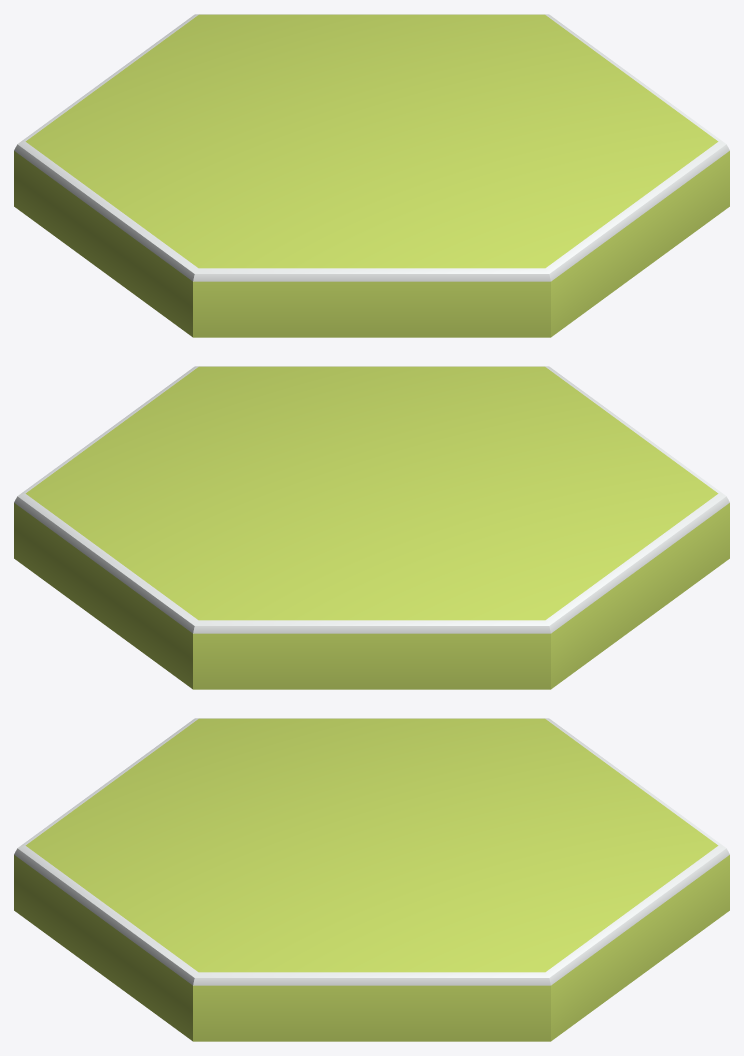
Rendered from Hex_Normal.fbx.
The picture shows the model from 3 angles, top to bottom: view 1: azimuth 30°, elevation 25°; view 2: azimuth 150°, elevation 25°; view 3: azimuth 270°, elevation 25°; orthographic projection.
Parts seen in each view (by area): view 1: Tille.004; view 2: Tille.004; view 3: Tille.004.
Boxes of the visible parts, bbox=[...] form: Tille.004: bbox=[14, 14, 729, 337]; Tille.004: bbox=[14, 366, 729, 689]; Tille.004: bbox=[14, 718, 729, 1041].
Bounding box in the file's own units: 173 × 20 × 200.
